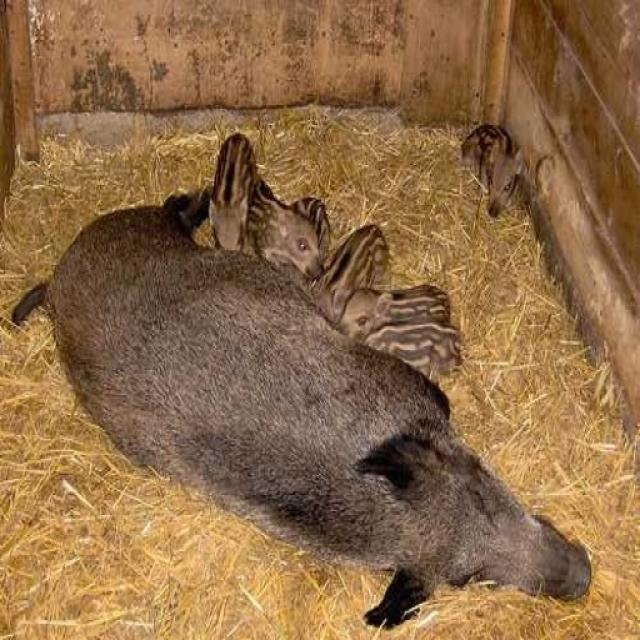pig: (87, 181, 608, 617), (179, 120, 256, 280), (338, 276, 459, 336), (249, 192, 320, 280)
